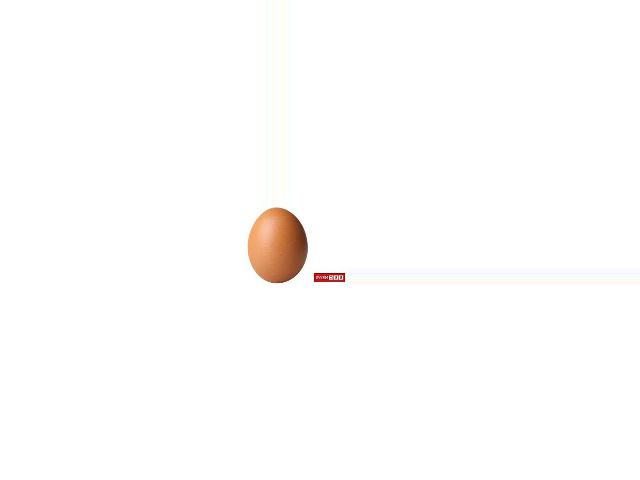egg: (247, 208, 306, 283)
